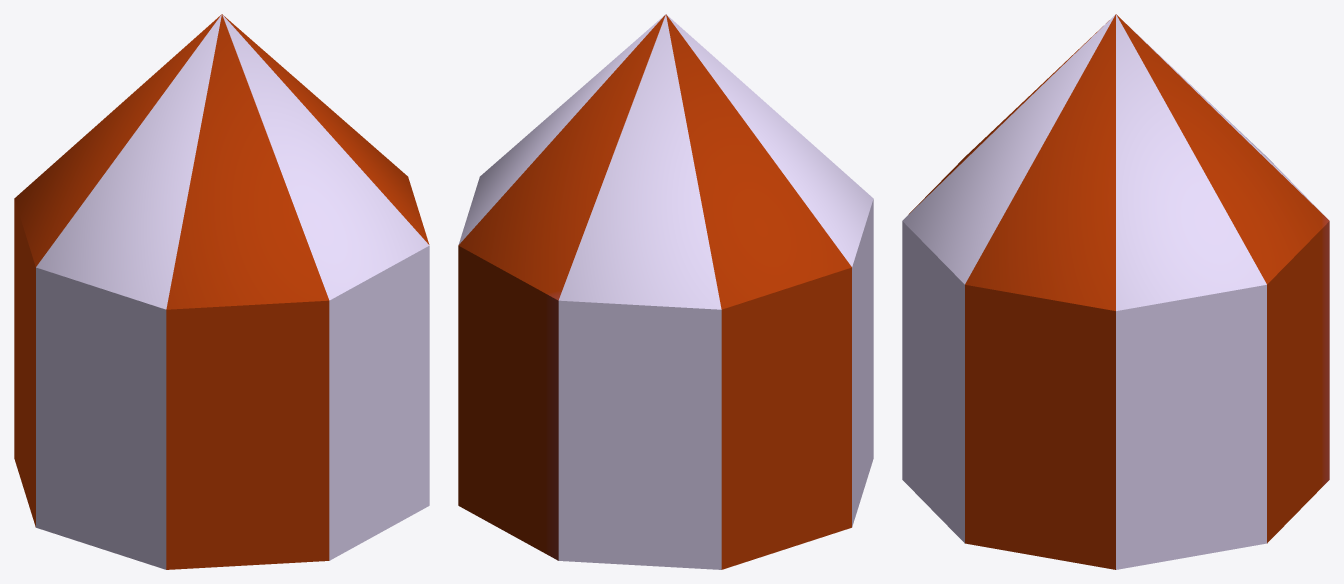
The model's file is FestivalTent.fbx.
The picture shows the model from 3 angles, left to right: view 1: azimuth 30°, elevation 25°; view 2: azimuth 150°, elevation 25°; view 3: azimuth 270°, elevation 25°; orthographic projection.
Parts seen in each view (by area): view 1: polySurface1718; view 2: polySurface1718; view 3: polySurface1718.
Part boxes in pixels (box(x1,y1,x2,y2)): polySurface1718: box(14, 14, 429, 569); polySurface1718: box(458, 14, 873, 569); polySurface1718: box(902, 14, 1329, 569).
Bounding box in the file's own units: 43.63 × 52.44 × 43.63.
Materials: 1 (1 with a texture image).
